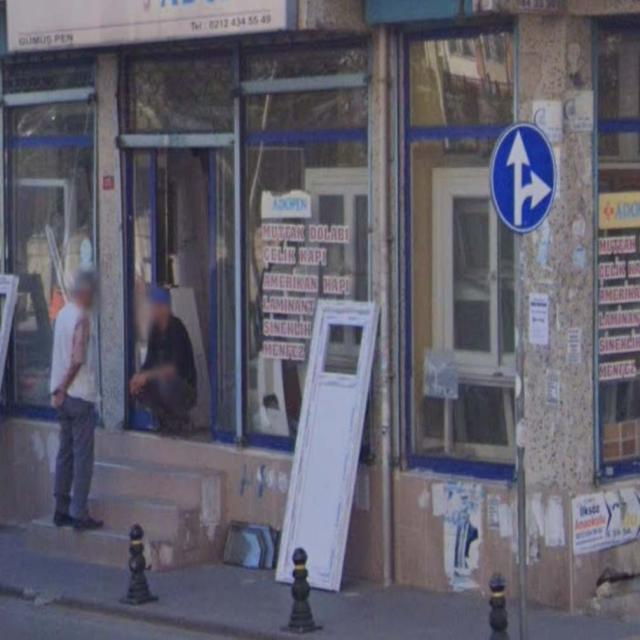ilerisag: (490, 122, 556, 233)
